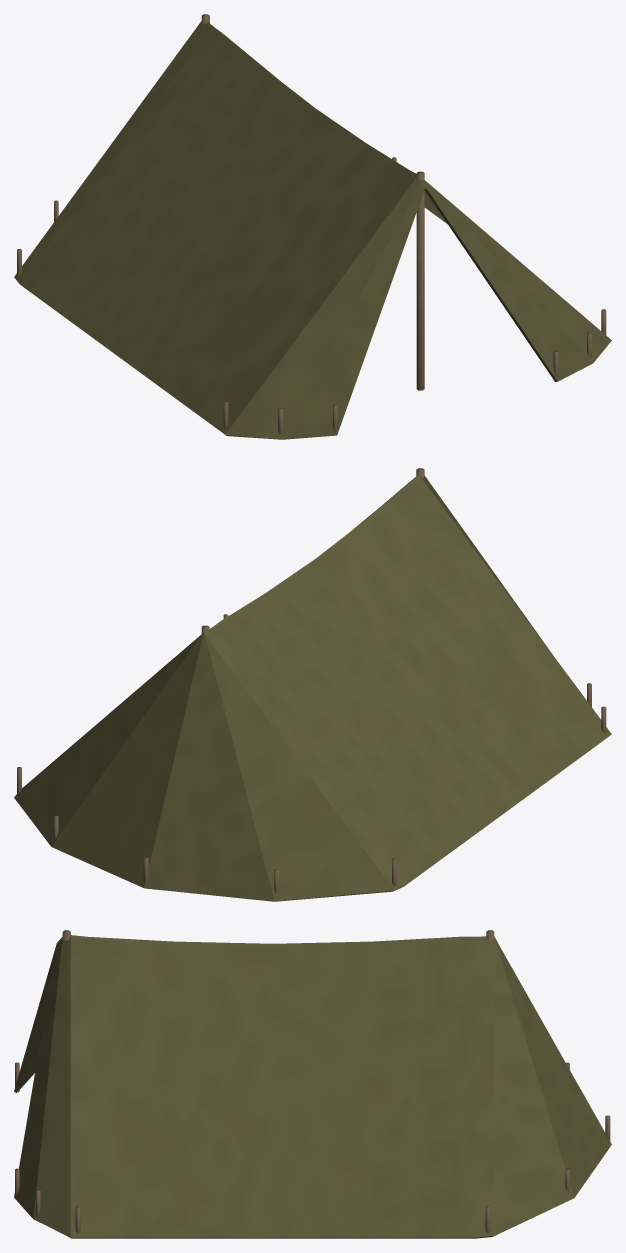
Rendered from Palatka.fbx.
3 views of the same model, one above another, from view 1: azimuth 30°, elevation 25°; view 2: azimuth 150°, elevation 25°; view 3: azimuth 270°, elevation 25° (orthographic).
Parts seen in each view (by area): view 1: Plane.001, Plane; view 2: Plane.001, Plane; view 3: Plane.001, Plane.
Part boxes in pixels (x1=…): Plane.001: x1=14, y1=21, x2=611, y2=439; Plane: x1=17, y1=14, x2=606, y2=434; Plane.001: x1=14, y1=474, x2=611, y2=901; Plane: x1=17, y1=468, x2=606, y2=893; Plane.001: x1=14, y1=935, x2=611, y2=1238; Plane: x1=15, y1=930, x2=610, y2=1233.
Size of the model in its own units: 528 by 284 by 717.
